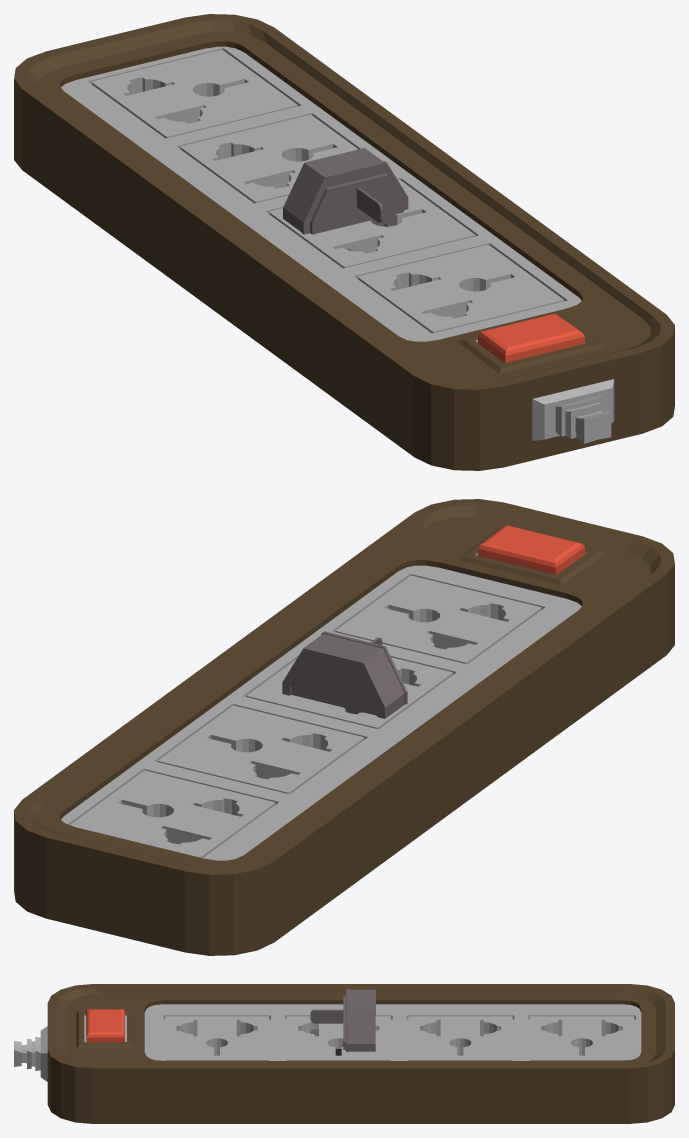
The model's file is Power Strip.fbx.
3 renders of one model, top to bottom at view 1: azimuth 30°, elevation 25°; view 2: azimuth 150°, elevation 25°; view 3: azimuth 270°, elevation 25°, orthographic. The views are drawn at different scales.
Visible parts, largest first — view 1: Power Strip, plug.001; view 2: Power Strip, plug.001; view 3: Power Strip, plug.001.
Boxes of the visible parts, x1,y1,x2,y2 form: Power Strip: (14, 14, 674, 470); plug.001: (283, 148, 408, 251); Power Strip: (14, 499, 674, 955); plug.001: (282, 631, 407, 718); Power Strip: (14, 984, 674, 1123); plug.001: (310, 988, 375, 1055).
Bounding box in the file's own units: 67.27 × 30.87 × 223.
